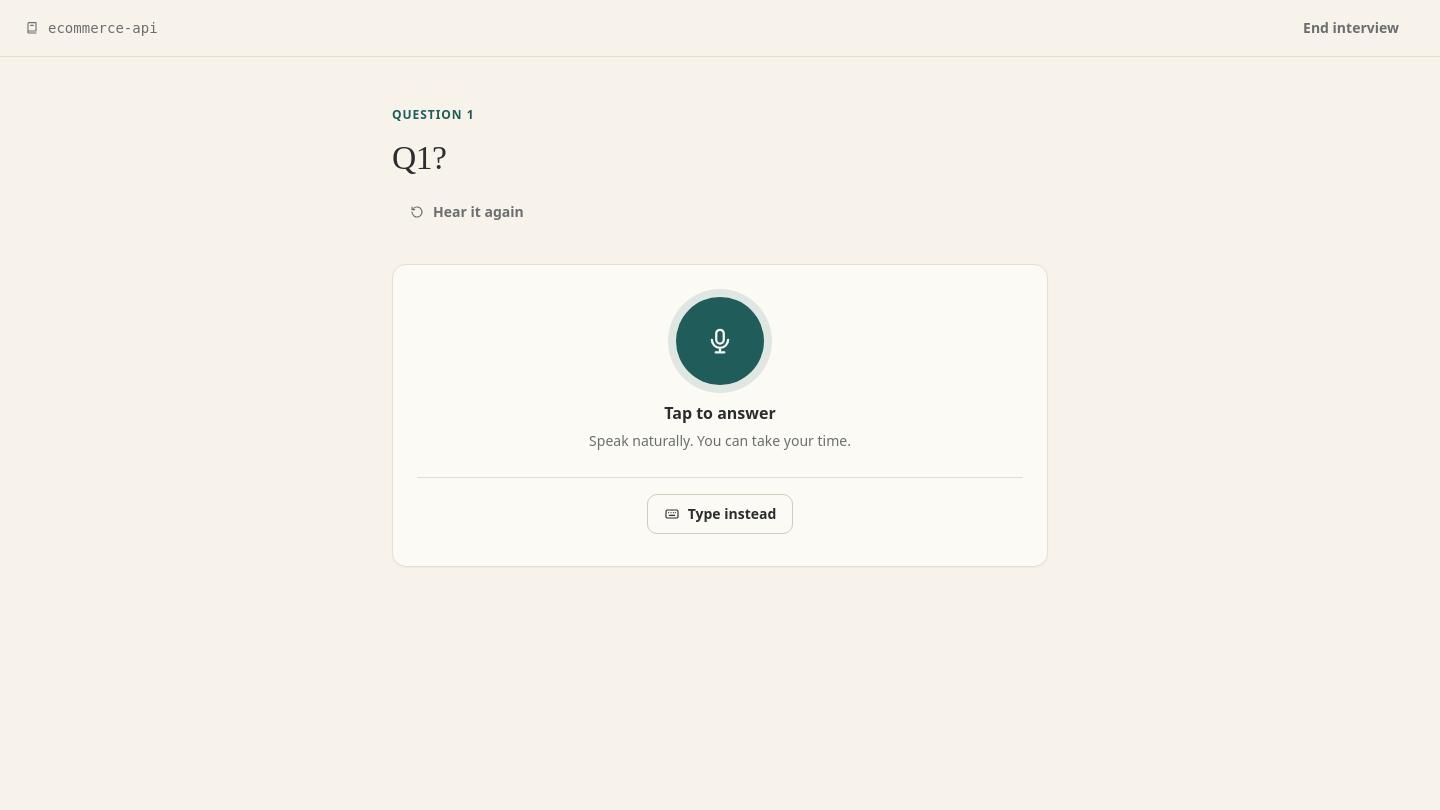
live interview › ends early with session.end after confirming
Expected: the heading "Q1?" is shown, x1=392 y1=139 x2=446 y2=176
Click the button "End interview".
click(1351, 28)  # box x1=1286 y1=8 x2=1416 y2=48
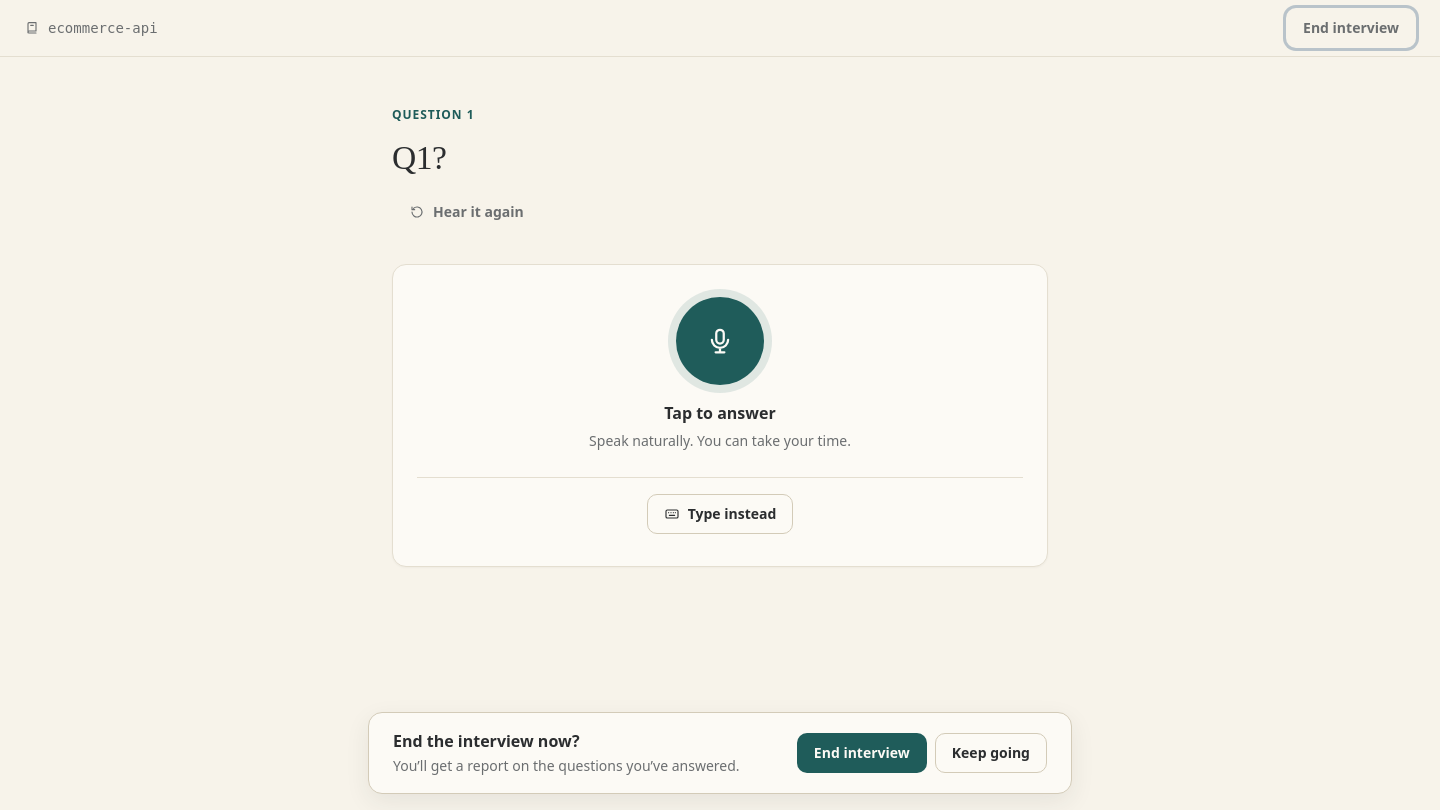
Now the text "End the interview now?" is shown, box x1=393 y1=730 x2=580 y2=752
Click the button "End interview" in the row of "End the interview now?".
click(862, 753)  # box x1=797 y1=733 x2=927 y2=773
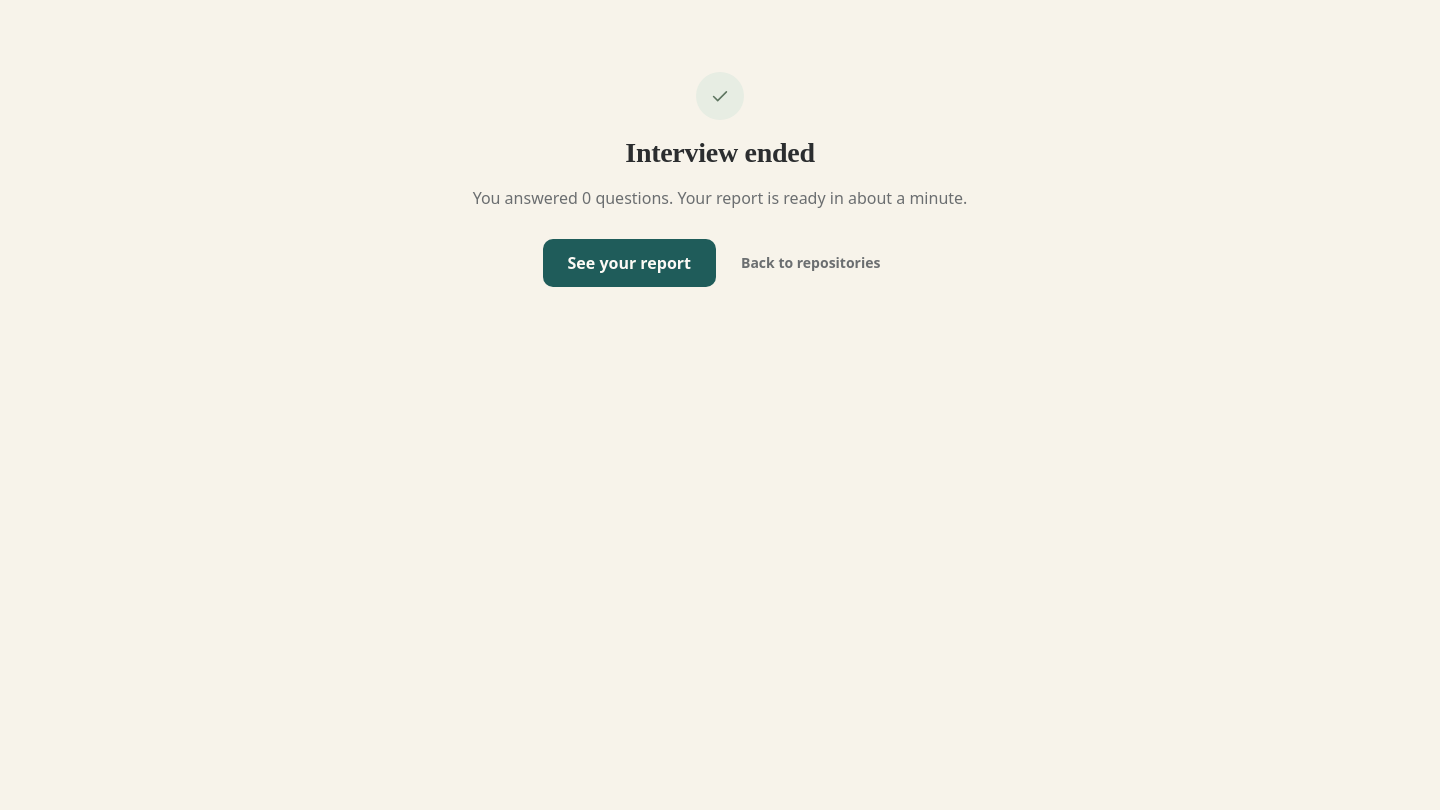
Now the heading "Interview ended" is shown, box x1=625 y1=136 x2=815 y2=170
